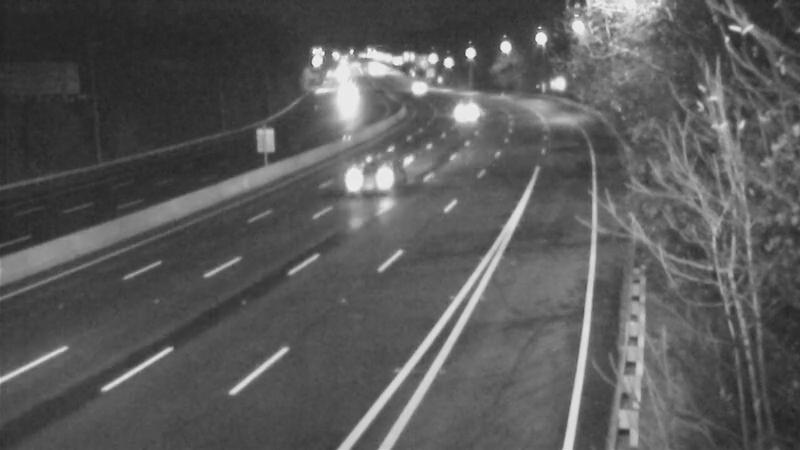vehicle: (324, 138, 404, 218), (390, 57, 440, 107), (440, 84, 490, 134), (316, 79, 366, 129)
